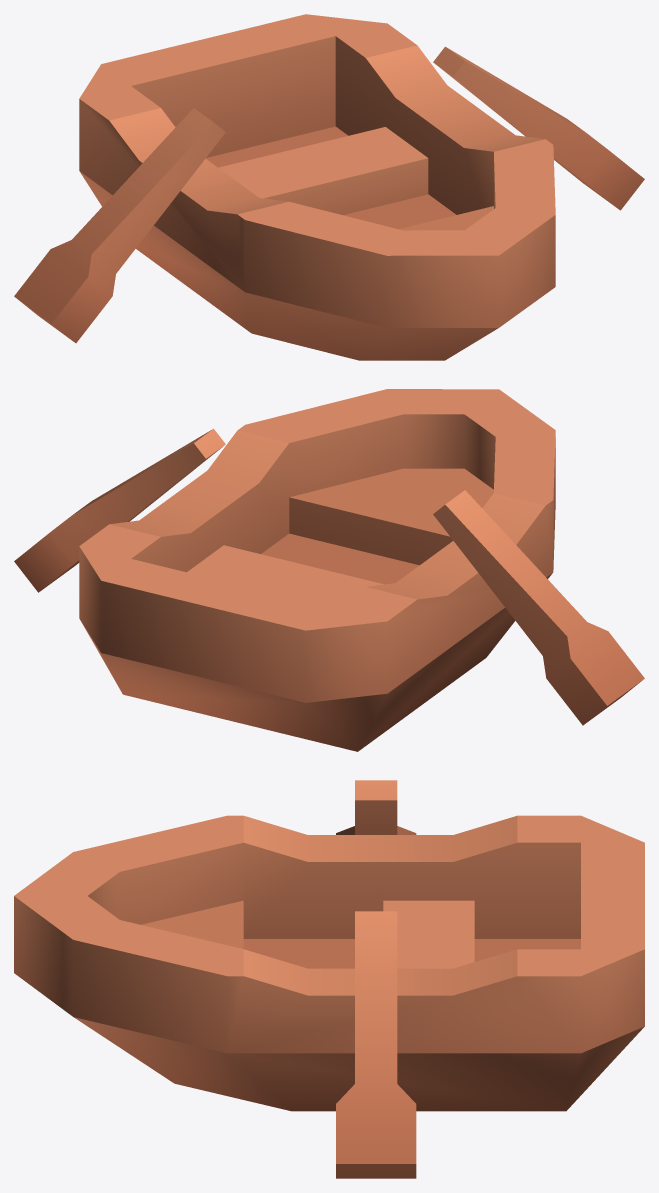
Rendered from boat_1.fbx.
3 renders of one model, top to bottom at view 1: azimuth 30°, elevation 25°; view 2: azimuth 150°, elevation 25°; view 3: azimuth 270°, elevation 25°, orthographic. The views are drawn at different scales.
Parts seen in each view (by area): view 1: boat_1; view 2: boat_1; view 3: boat_1.
Part boxes in pixels (box(x1,y1,x2,y2)): boat_1: box(14, 14, 644, 360); boat_1: box(14, 389, 644, 751); boat_1: box(14, 780, 644, 1178).
Bounding box in the file's own units: 2.75 × 0.8477 × 2.37.
1 material, 1 textured.
